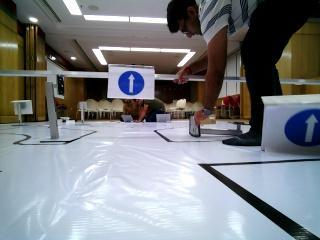straight: (267, 97, 320, 160), (109, 64, 156, 100)
